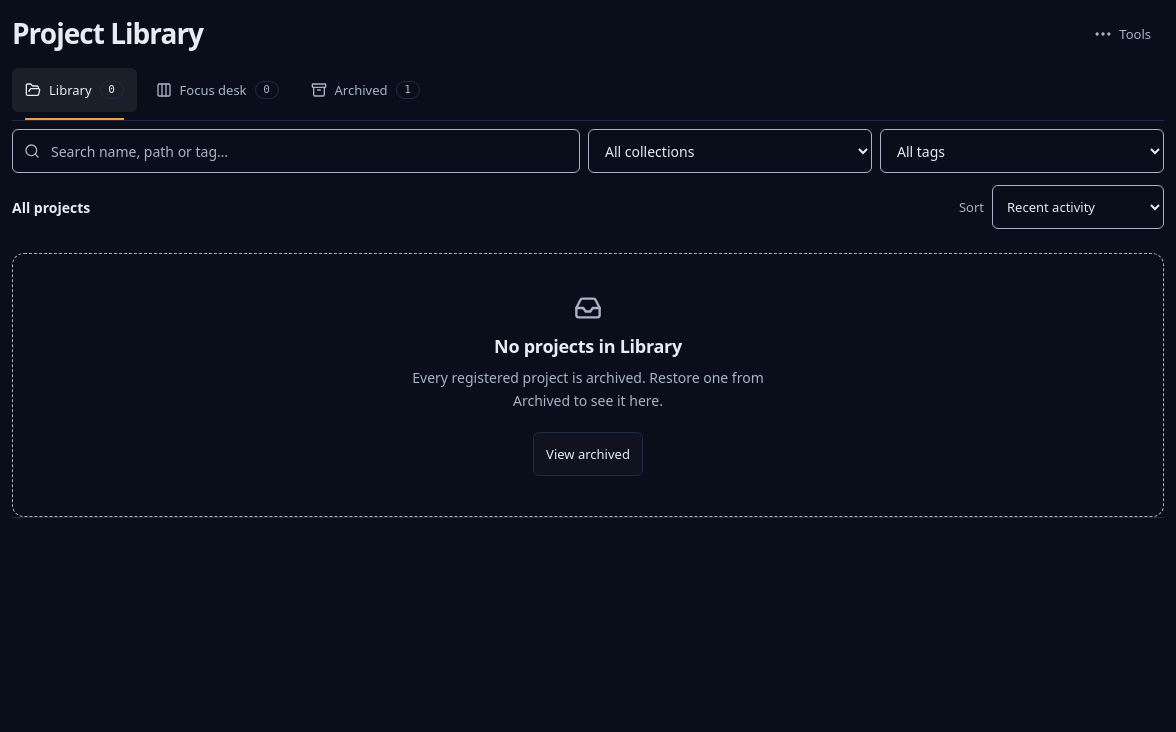
Test: retains the archived record on restore conflict and offers a guarded retry
The width and height of the screenshot is (1176, 732).
Expected: the button "View archived" is shown, [533,432,643,476]
Click the button "Archived 1". click: (365,90)
box: [298,68,433,112]
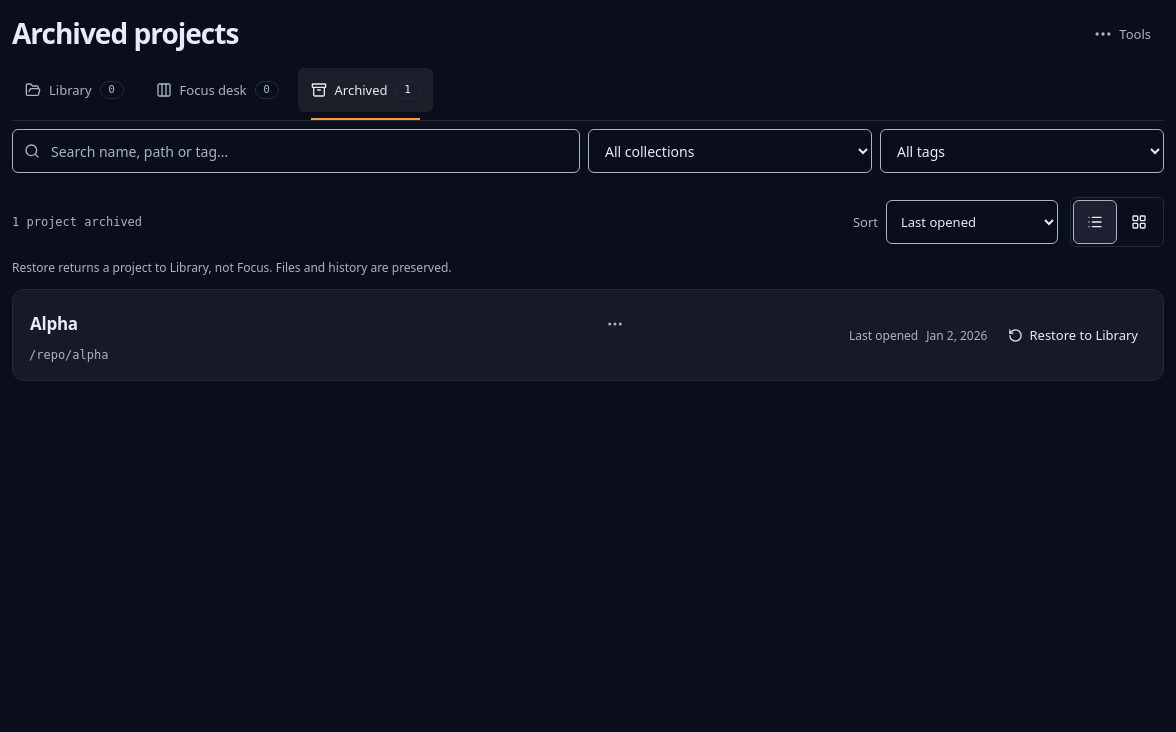
Click the button with aria-label "Restore Alpha to Library". click: (1073,335)
box: [1000,313,1147,357]
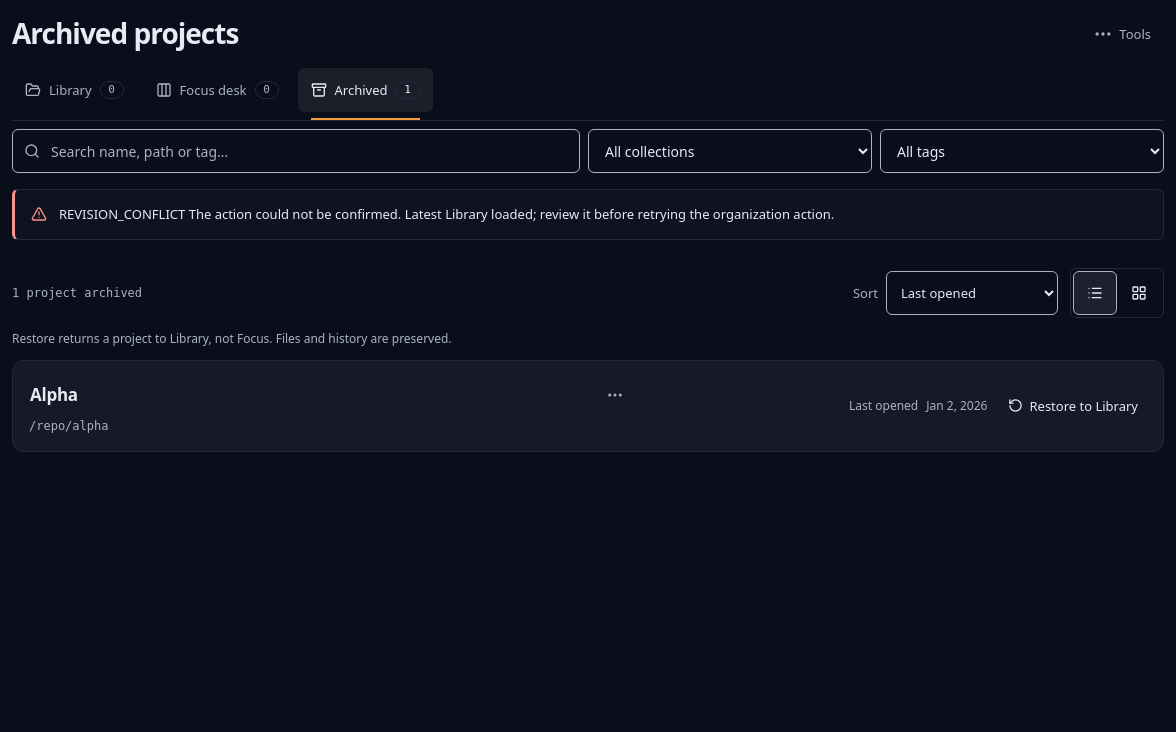
Expected: the button with aria-label "Restore Alpha to Library" is enabled, [1000,384,1147,428]
Expected: the text "REVISION_CONFLICT" is shown, [59,205,185,223]
